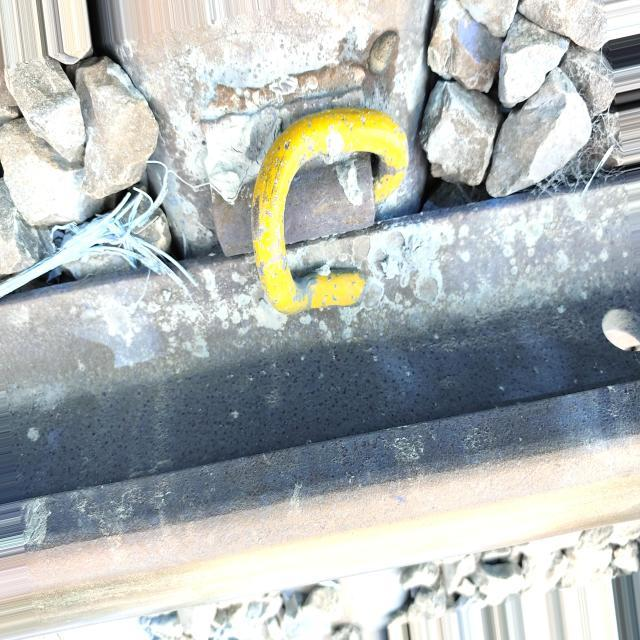Good Fasteners: (186, 59, 406, 329)
